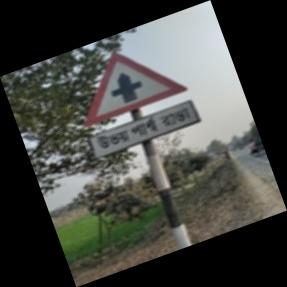Crossroad: (82, 50, 198, 165)
